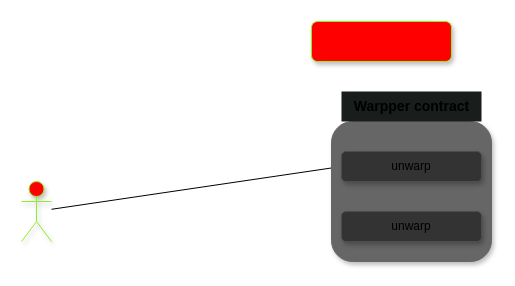
Image size: 515x286. Some labels were removed from this diagram. Each missing label, with the centre of its shape:
"Actor" goes at point 37,212.
"protocol" goes at point 382,42.
